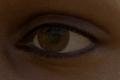eye: (37, 25, 70, 53)
